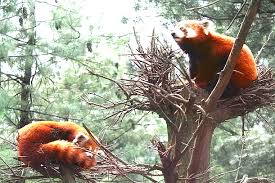redPanda: (163, 13, 264, 100)
